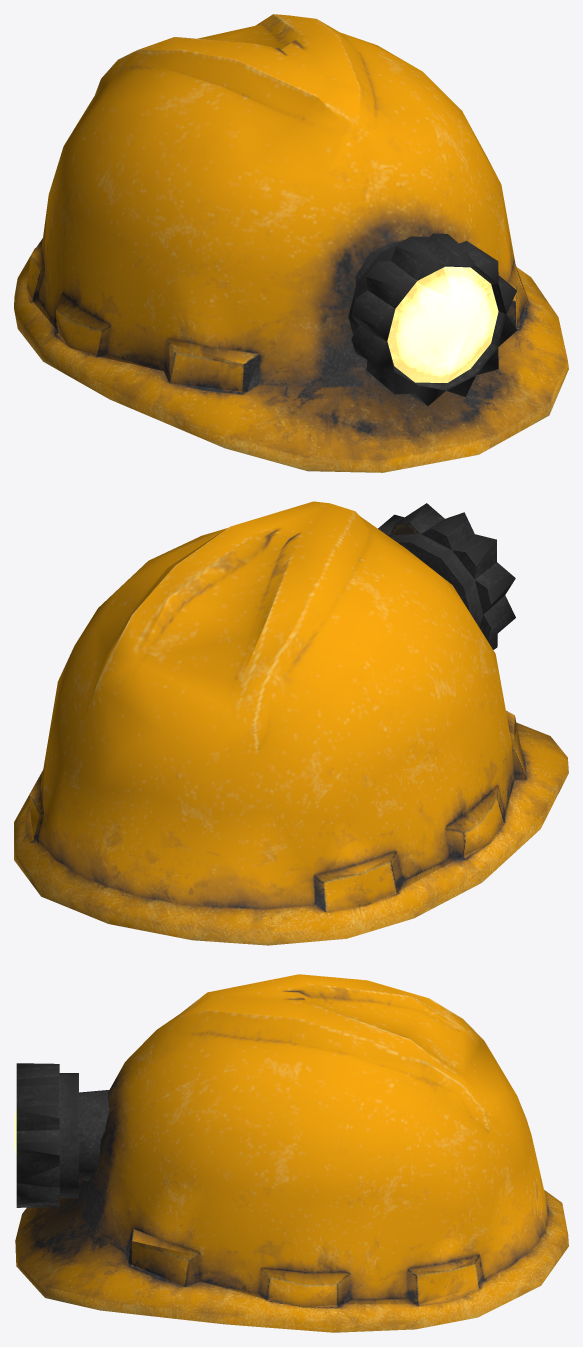
Rendered from helmet.fbx.
3 views of the same model, one above another, from view 1: azimuth 30°, elevation 25°; view 2: azimuth 150°, elevation 25°; view 3: azimuth 270°, elevation 25° (orthographic). The views are drawn at different scales.
Visible parts, largest first — view 1: Mine_helmet; view 2: Mine_helmet; view 3: Mine_helmet.
Part boxes in pixels (left/top/right/bottom): Mine_helmet: left=14, top=14, right=568, bottom=472; Mine_helmet: left=14, top=501, right=568, bottom=945; Mine_helmet: left=14, top=974, right=568, bottom=1332.
Size of the model in its own units: 38.79 by 25.02 by 48.45.
